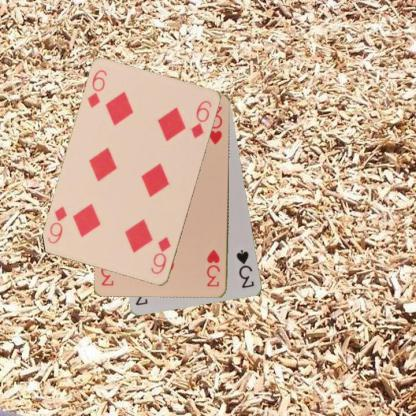3h: (204, 248, 221, 288)
3s: (234, 247, 255, 290)
6d: (85, 67, 109, 110), (148, 235, 172, 276)
